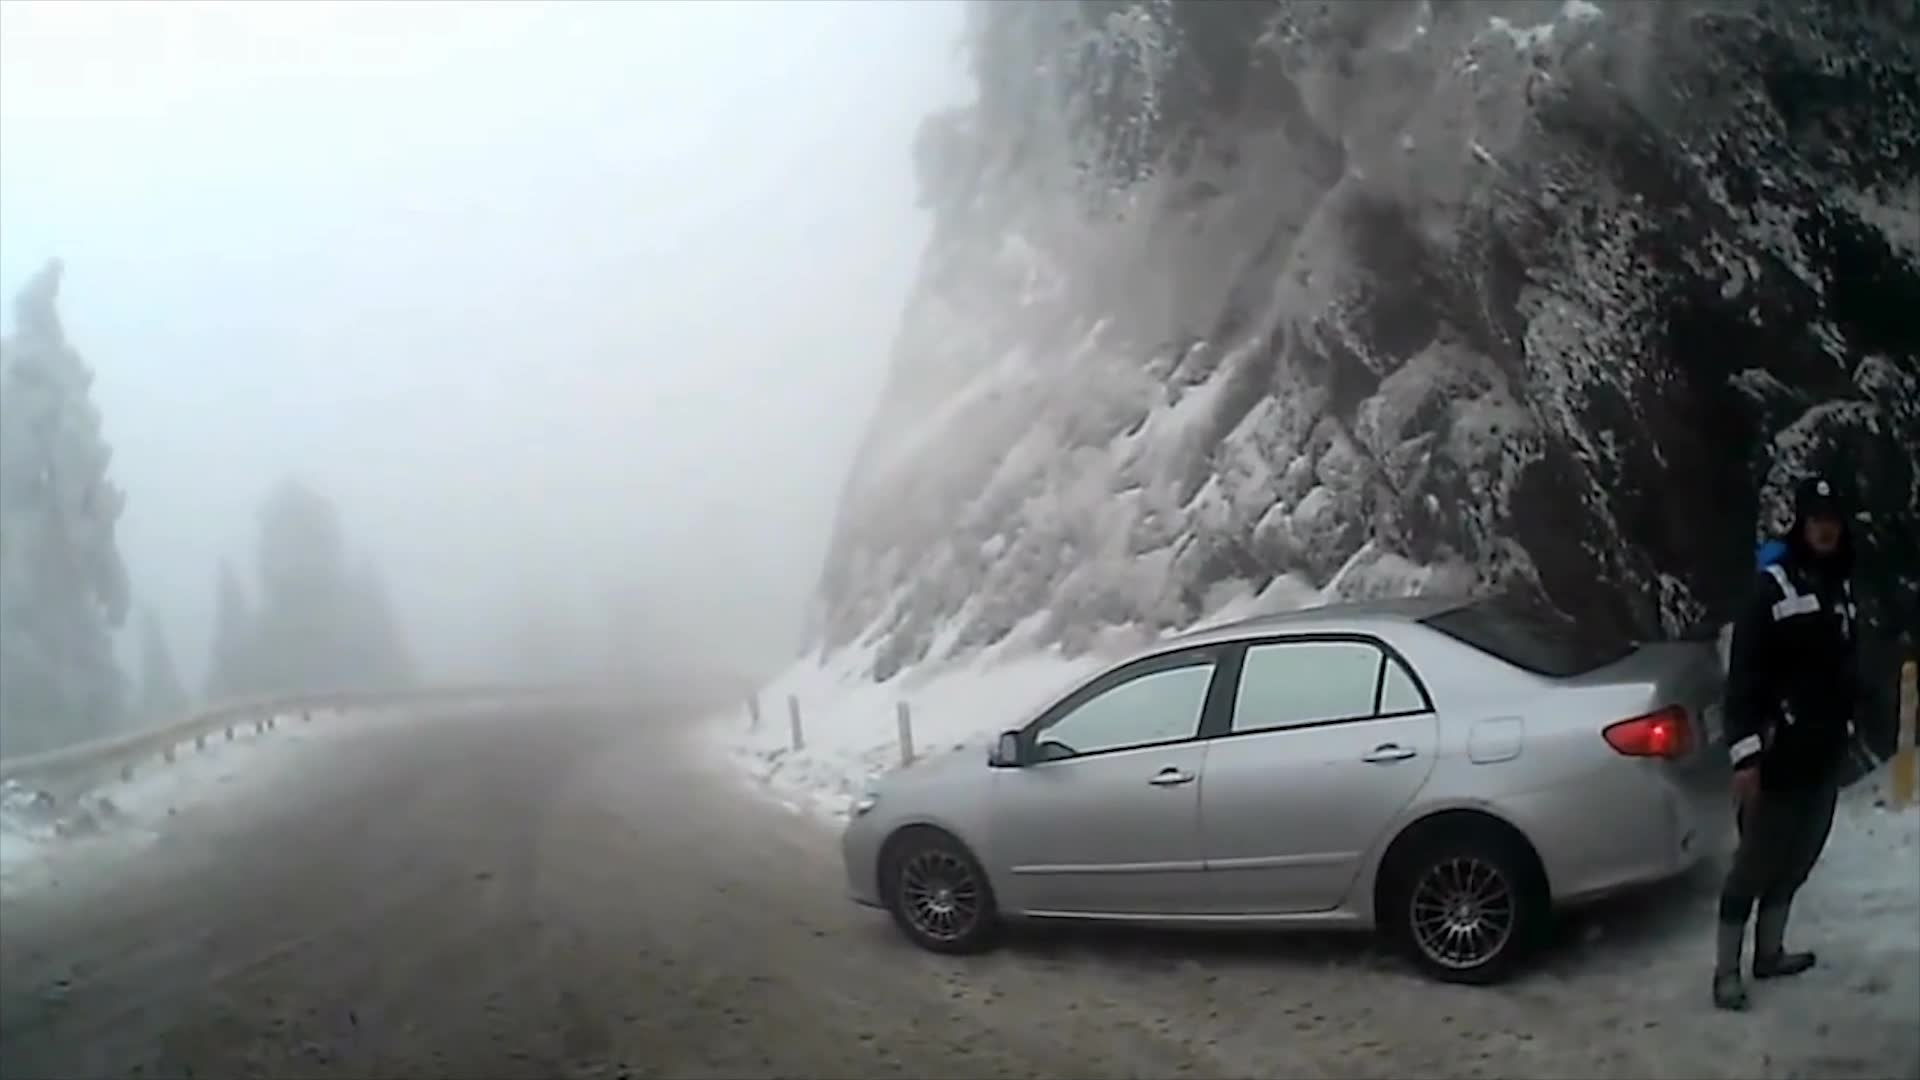pedestrian: (1716, 456, 1873, 1007)
vehicle: (841, 593, 1773, 988)
